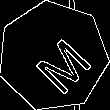M_NW: (19, 22, 88, 90)
